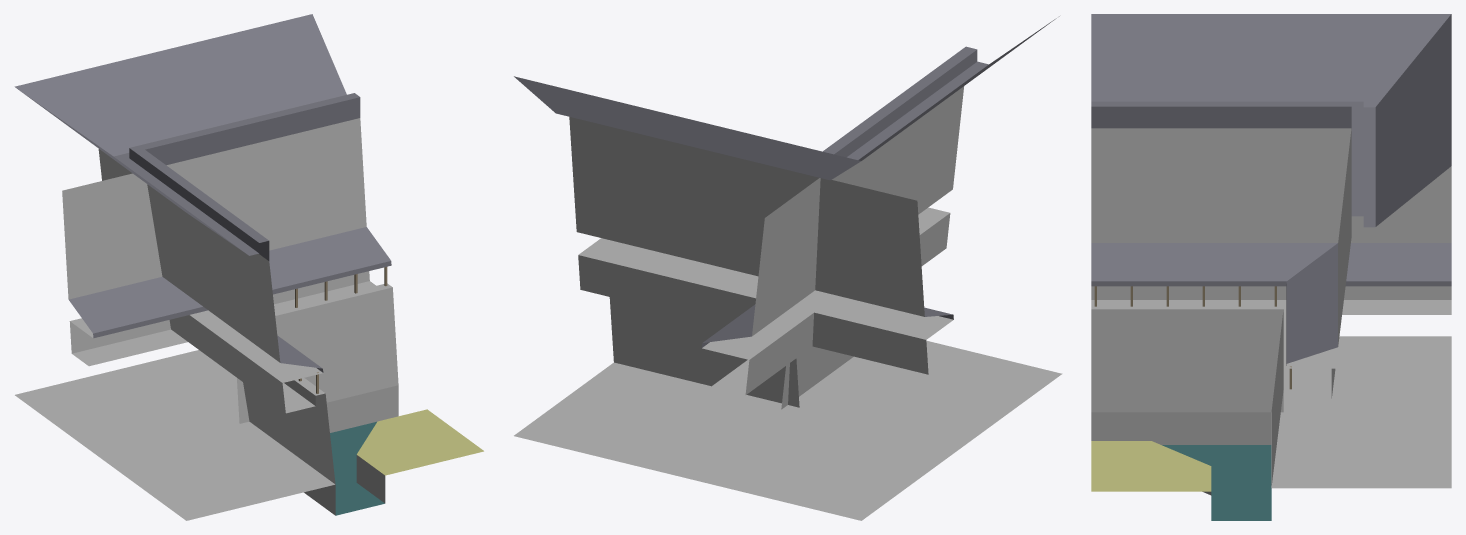
The model's file is ccwc.obj.
3 views of the same model, side by side, from view 1: azimuth 30°, elevation 25°; view 2: azimuth 150°, elevation 25°; view 3: azimuth 270°, elevation 25° (orthographic). The views are drawn at different scales.
Visible parts, largest first — view 1: ccwc; view 2: ccwc; view 3: ccwc.
Part boxes in pixels (<box>): ccwc: <box>14,14,483,520</box>; ccwc: <box>514,16,1062,520</box>; ccwc: <box>1091,14,1451,520</box>.
Size of the model in its own units: 30 by 32.63 by 30.
